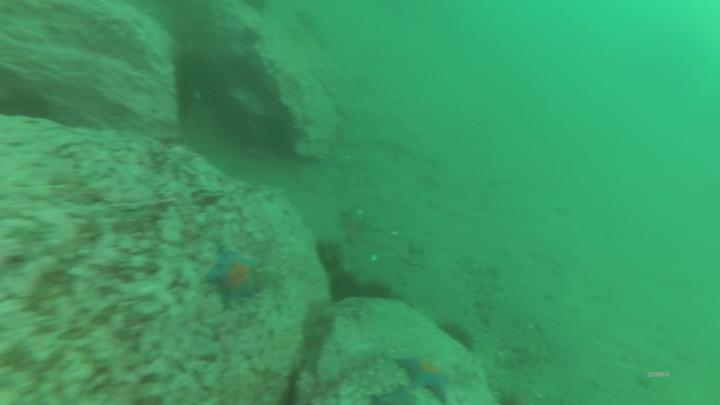echinus: (315, 240, 341, 268), (335, 270, 357, 301)
starfish: (397, 356, 457, 403), (208, 253, 257, 307)
